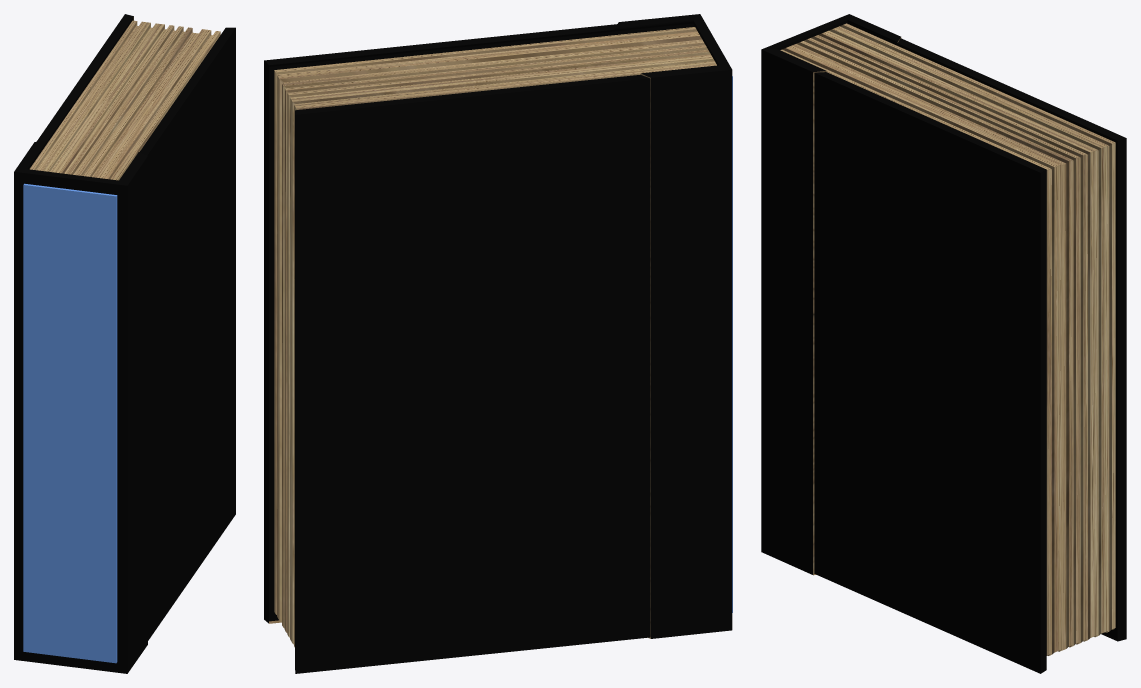
Rendered from ThirdShelfBook3.fbx.
The picture shows the model from 3 angles, left to right: view 1: azimuth 30°, elevation 25°; view 2: azimuth 150°, elevation 25°; view 3: azimuth 270°, elevation 25°; orthographic projection. The views are drawn at different scales.
Parts seen in each view (by area): view 1: SmallBook.003; view 2: SmallBook.003; view 3: SmallBook.003.
Boxes of the visible parts, box(x1,y1,x2,y2) form: SmallBook.003: box(14, 14, 235, 673); SmallBook.003: box(264, 14, 732, 673); SmallBook.003: box(761, 14, 1126, 673).
Bounding box in the file's own units: 100 × 149 × 98.06.
